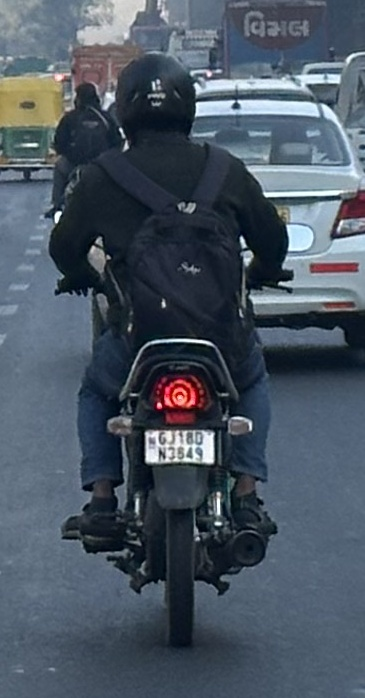BikeWithRider: (44, 52, 290, 653), (54, 75, 131, 246)
Helmet: (111, 51, 204, 147)
NoHelmet: (72, 79, 102, 114)
